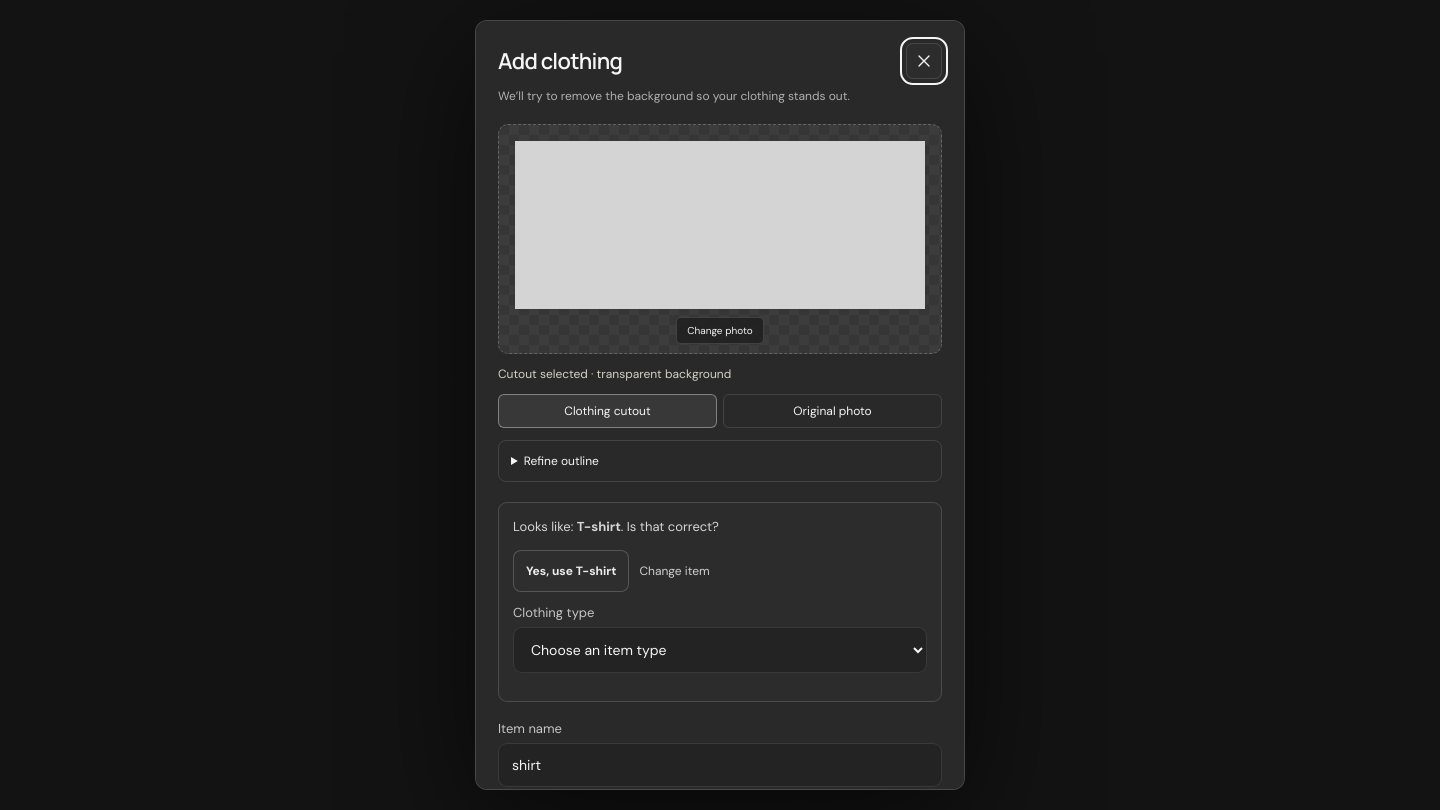
Scenario: allows correction of the detected item while preserving a custom name and warmth
Earlier steps of the test are not shown.
Later steps or results of the test are not shown.
Expected: the button "Change item" is enabled, [639, 553, 710, 589]
Replace the text in the field labelled "Item name" with "Grandma’s gift": (720, 765) [498, 743, 942, 787]
(page scrolled)
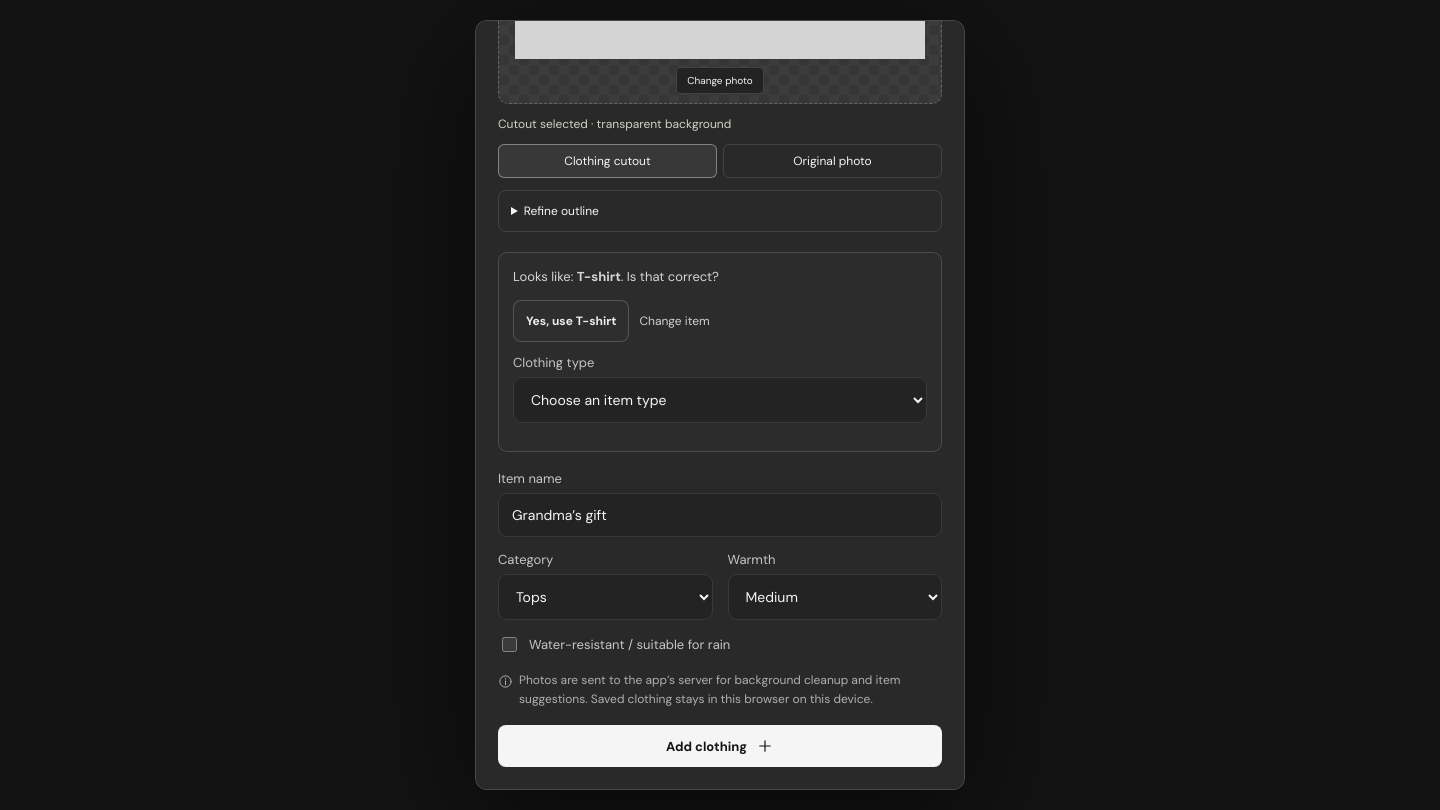
Select "Warm" in the dropdown labelled "Warmth": (835, 597) [728, 574, 942, 620]
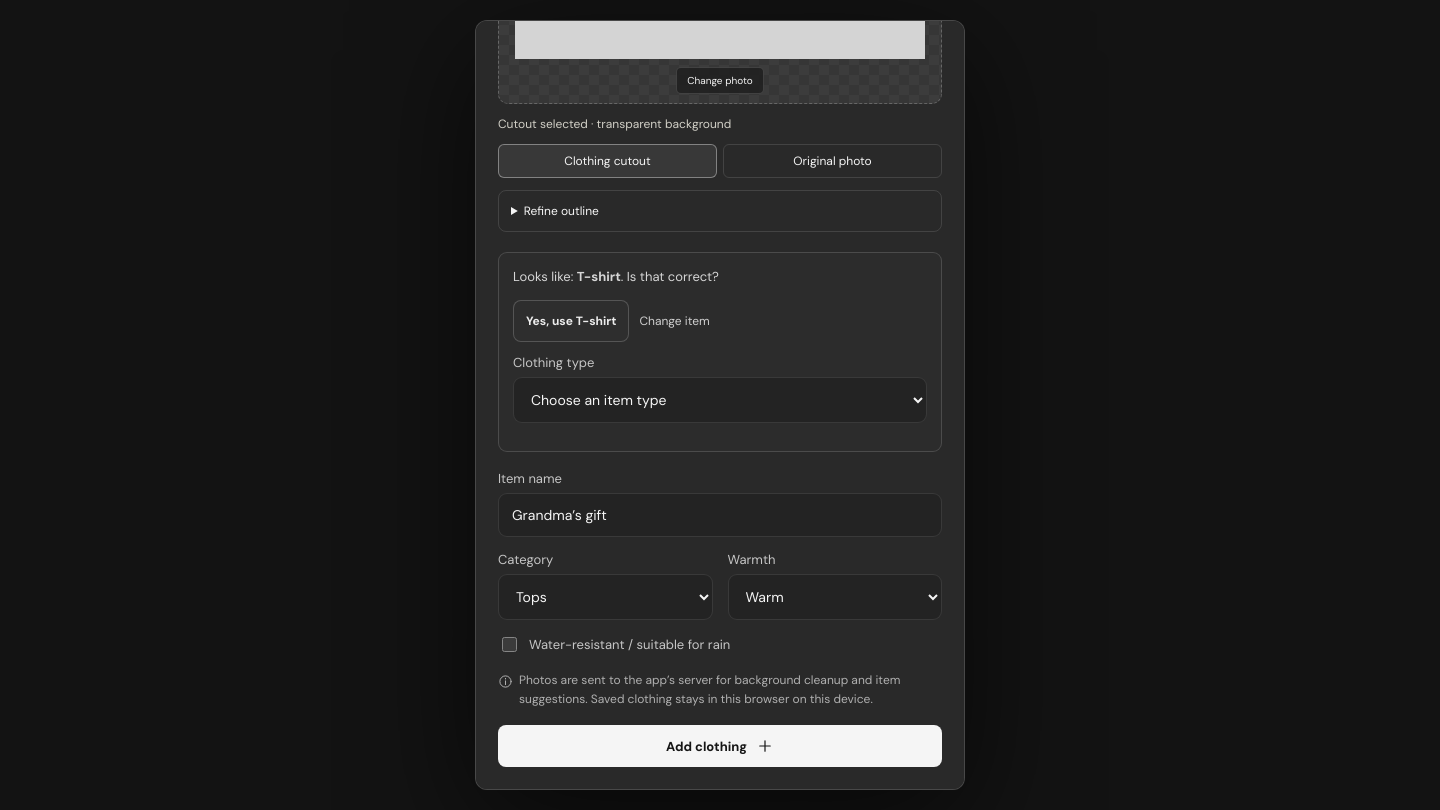
Click the button "Change item": (675, 321) [639, 303, 710, 339]
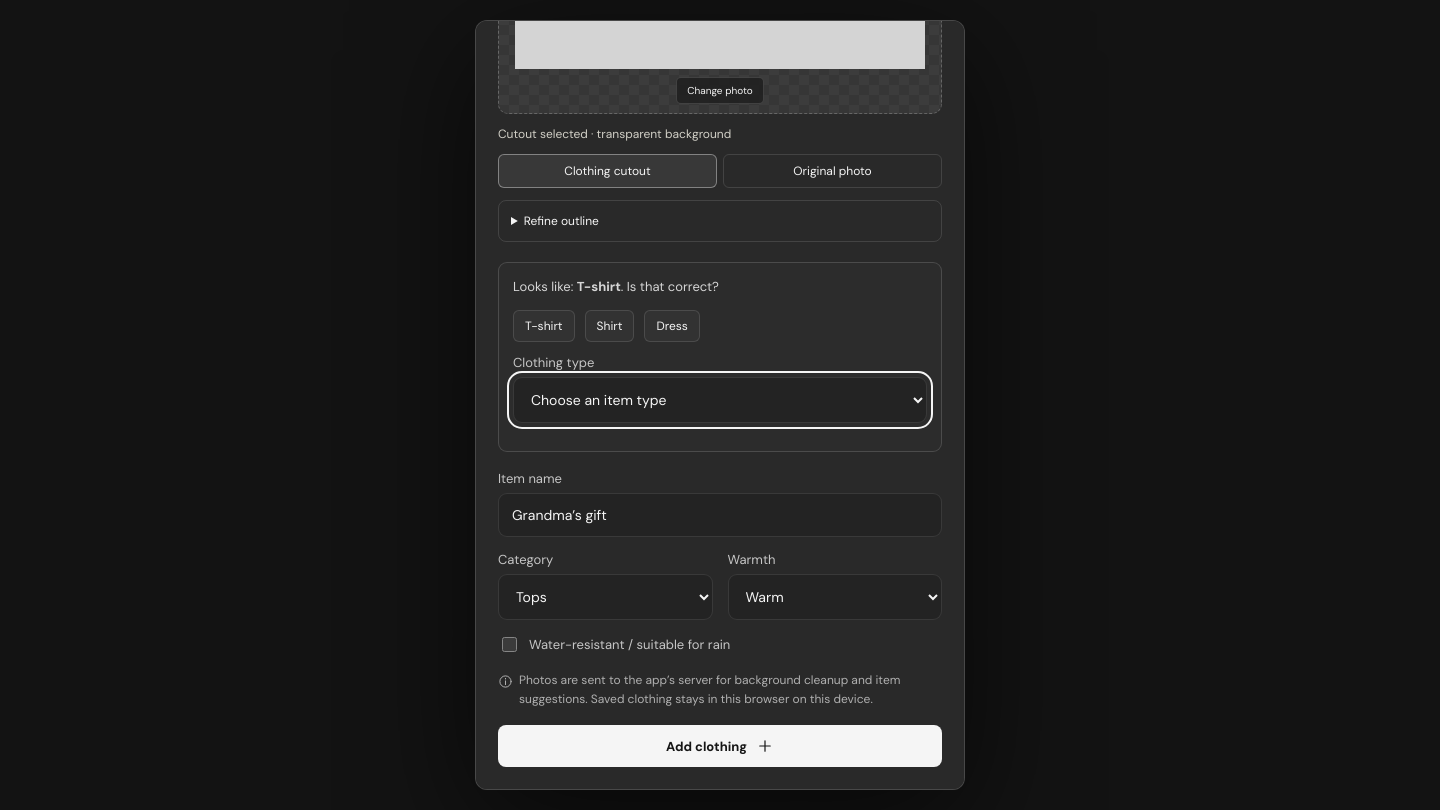
Select "Coat" in the dropdown labelled "Clothing type": (720, 400) [513, 377, 927, 423]
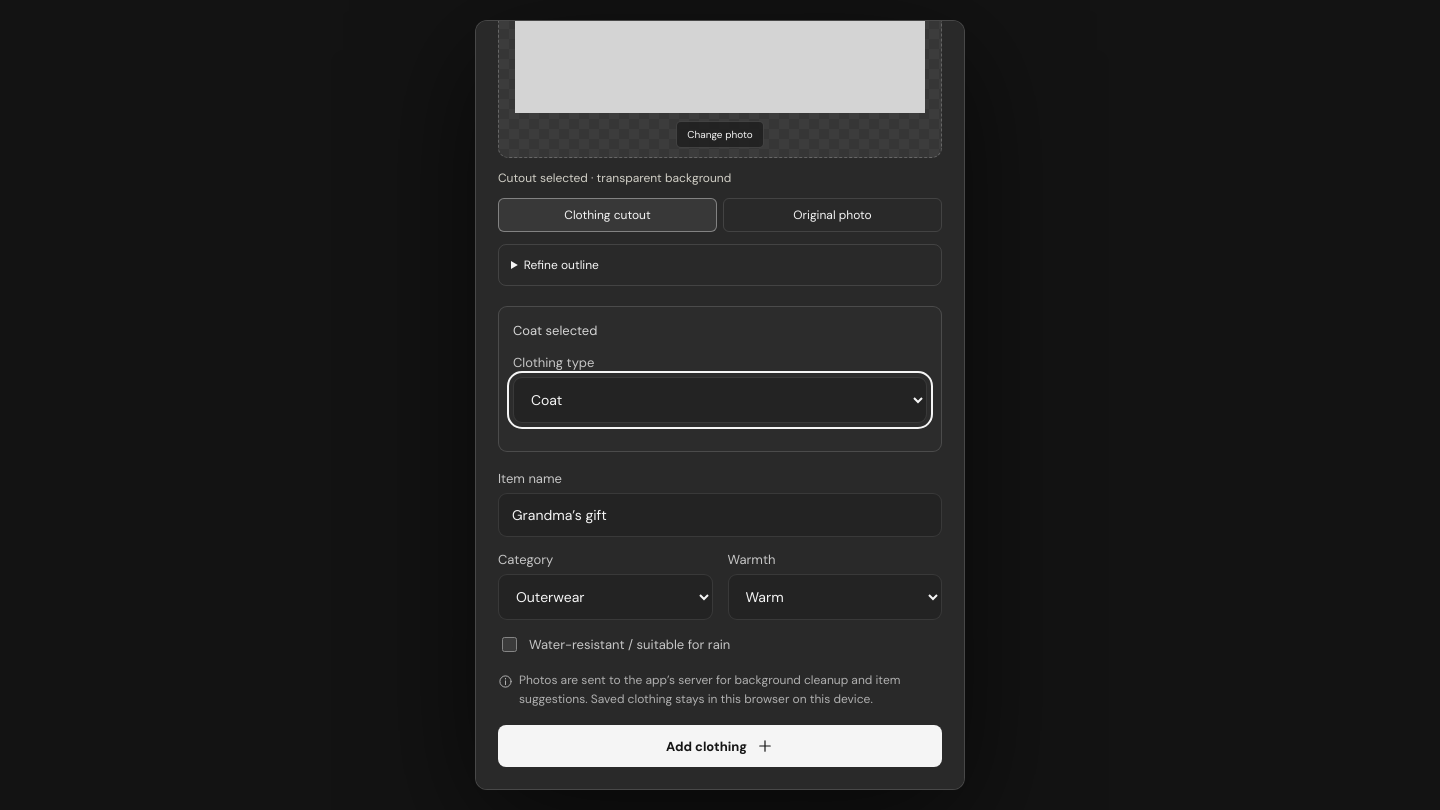
Now the dropdown labelled "Category" shows "Outerwear", box [498, 574, 712, 620]
